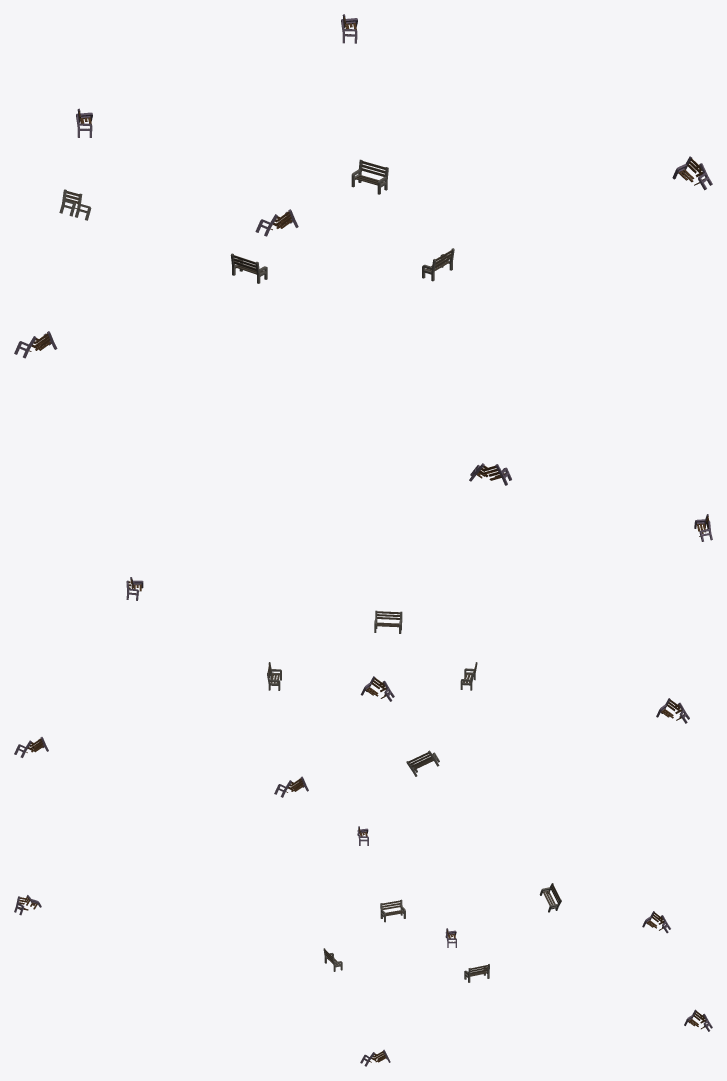
The model's file is map1.gltf.
3 renders of one model, top to bottom at view 1: azimuth 30°, elevation 25°; view 2: azimuth 150°, elevation 25°; view 3: azimuth 270°, elevation 25°, orthographic. The views are drawn at different scales.
Bounding box in the file's own units: 183 × 9.22 × 232.
